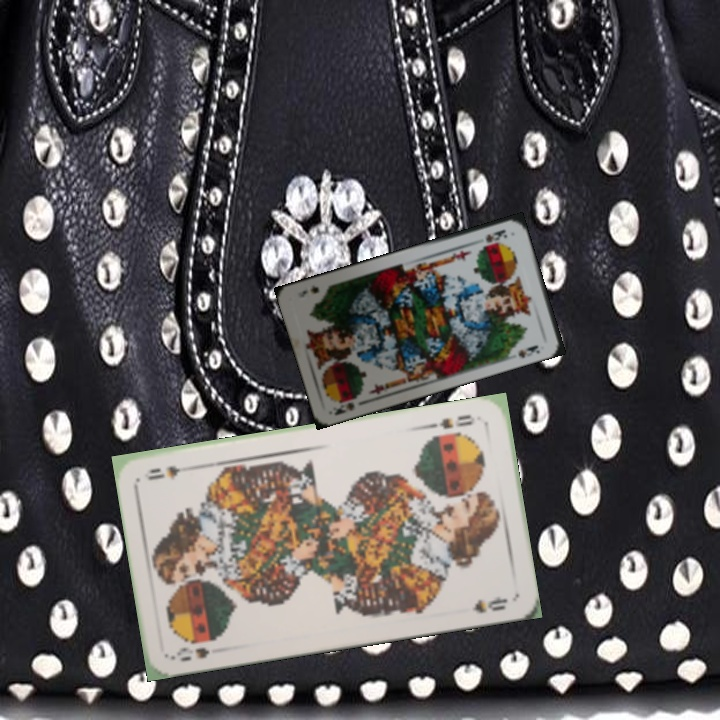SK: (482, 225, 510, 246), (330, 398, 357, 418)
SO: (425, 410, 475, 432), (169, 643, 212, 664)
